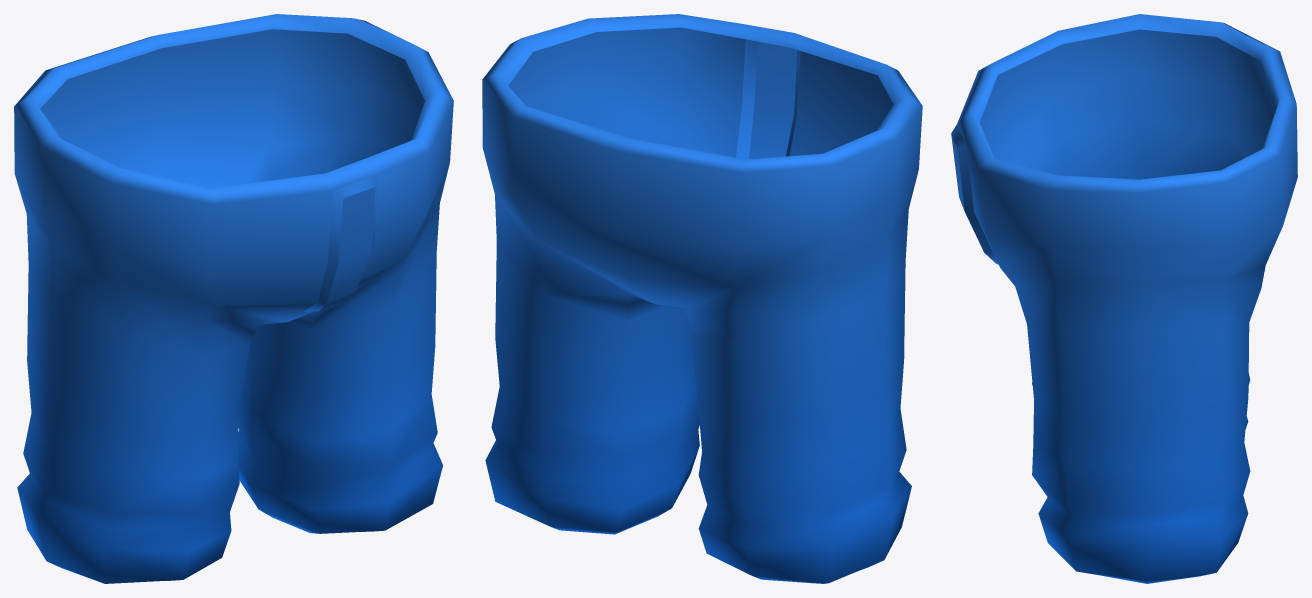
Rendered from Bottom_29.fbx.
3 renders of one model, left to right at view 1: azimuth 30°, elevation 25°; view 2: azimuth 150°, elevation 25°; view 3: azimuth 270°, elevation 25°, orthographic. The views are drawn at different scales.
Visible parts, largest first — view 1: Bottom_29; view 2: Bottom_29; view 3: Bottom_29.
Part boxes in pixels (<box>): Bottom_29: <box>14,14,453,583</box>; Bottom_29: <box>482,14,922,583</box>; Bottom_29: <box>951,14,1297,583</box>.
Size of the model in its own units: 38.42 by 41.84 by 31.97.
